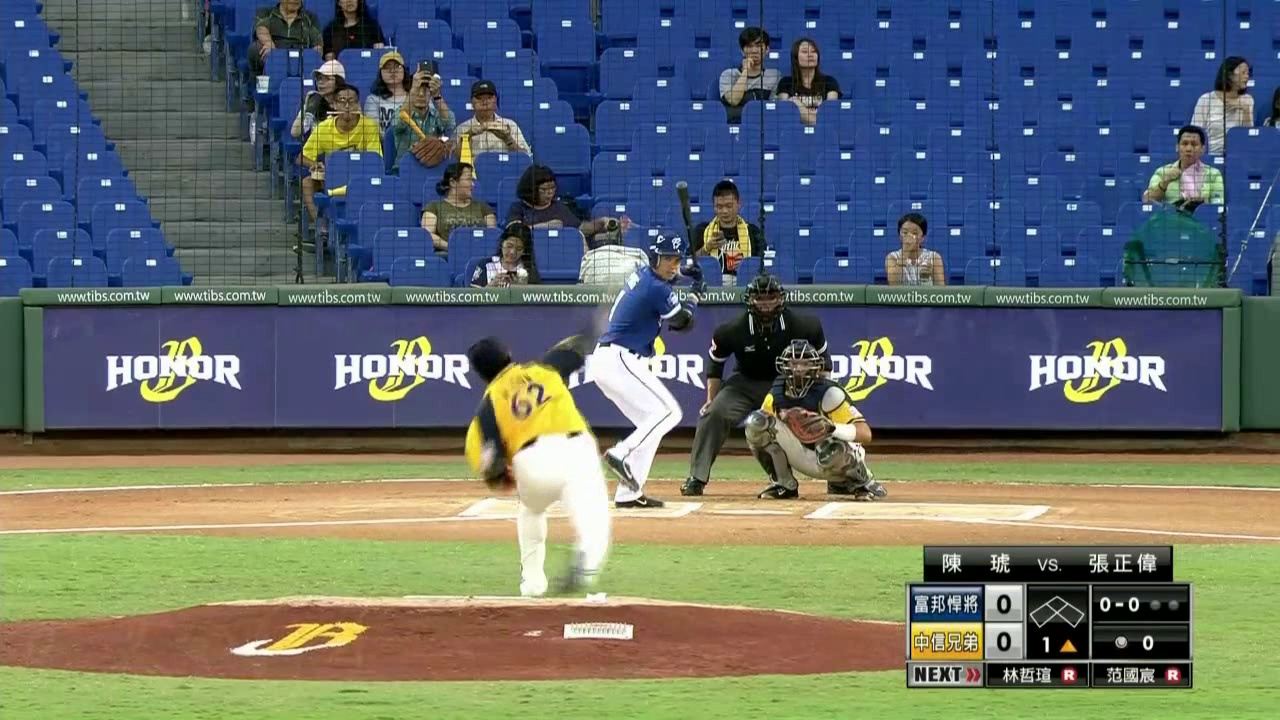ball: (620, 255, 635, 271)
base: (1027, 589, 1088, 633)
bat: (677, 181, 702, 278)
out: (1146, 597, 1186, 613)
score1: (991, 589, 1018, 617)
score2: (993, 624, 1018, 656)
session: (1030, 635, 1084, 661)
strikeball: (1097, 592, 1142, 616)
total: (1109, 631, 1163, 655)
